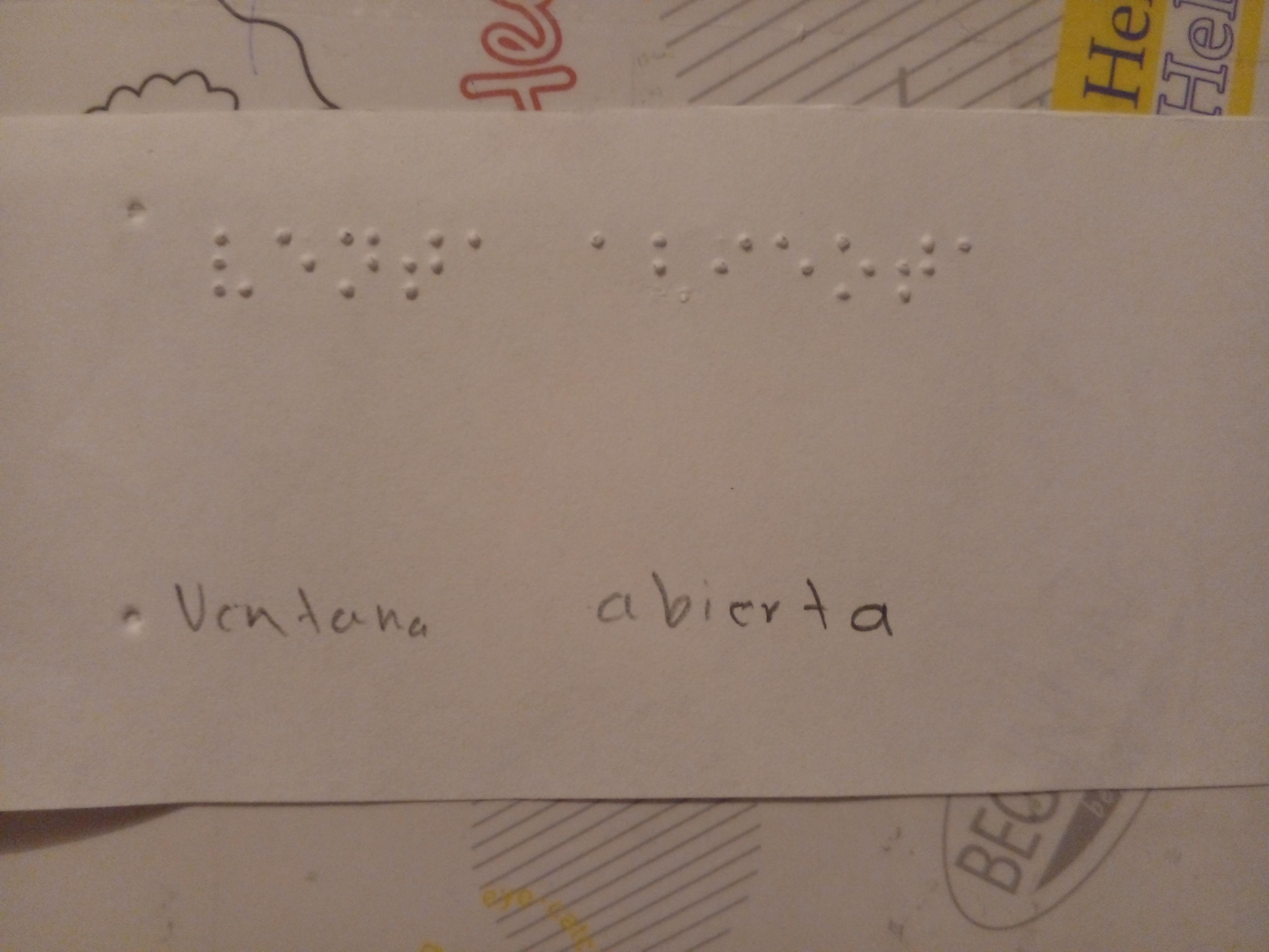a: (946, 220, 987, 284), (581, 214, 627, 270), (460, 217, 497, 270)
b: (637, 218, 678, 299)
e: (765, 217, 819, 296), (273, 217, 324, 284)
i: (705, 222, 756, 287)
n: (332, 218, 386, 305)
o: (829, 228, 880, 311)
t: (398, 215, 454, 315), (891, 222, 943, 319)
v: (198, 212, 259, 328)
